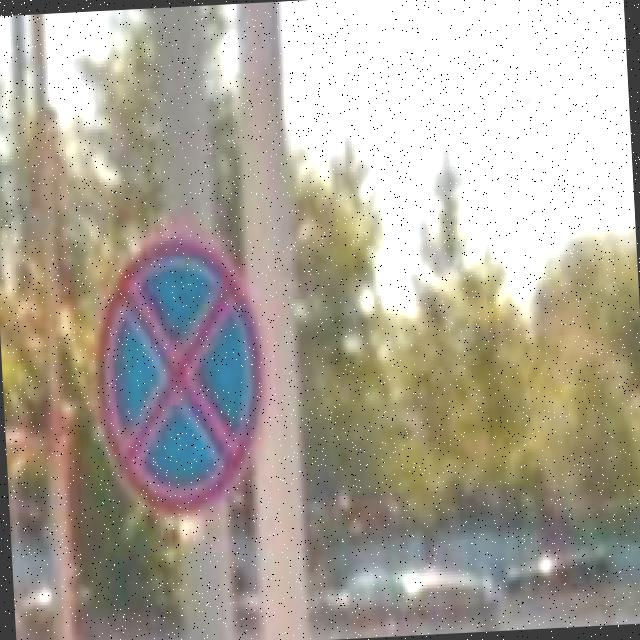Zakaz zatrzymywania sie: (87, 230, 270, 515)
